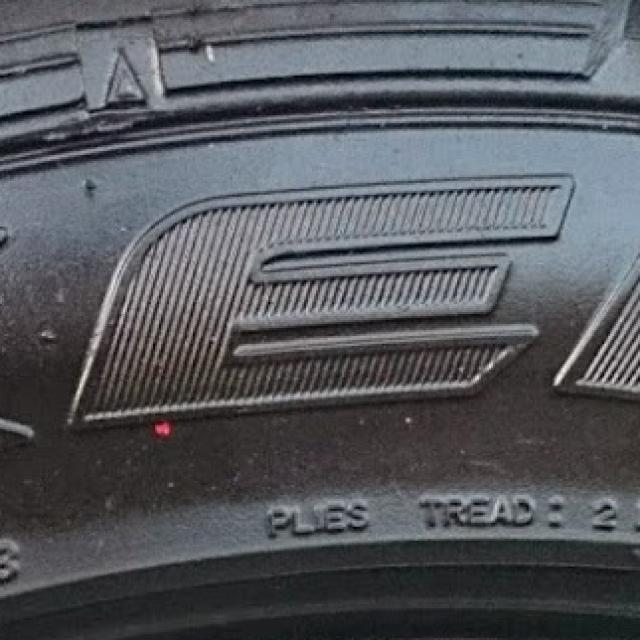Non-defective: (0, 0, 640, 628), (638, 618, 640, 640)
